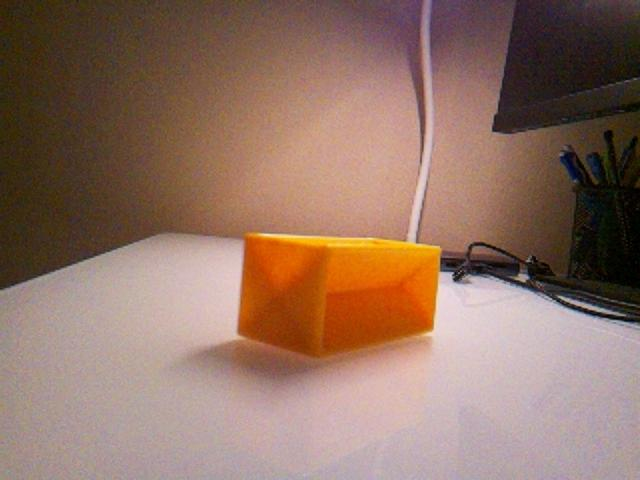yellow: (236, 230, 443, 358)
